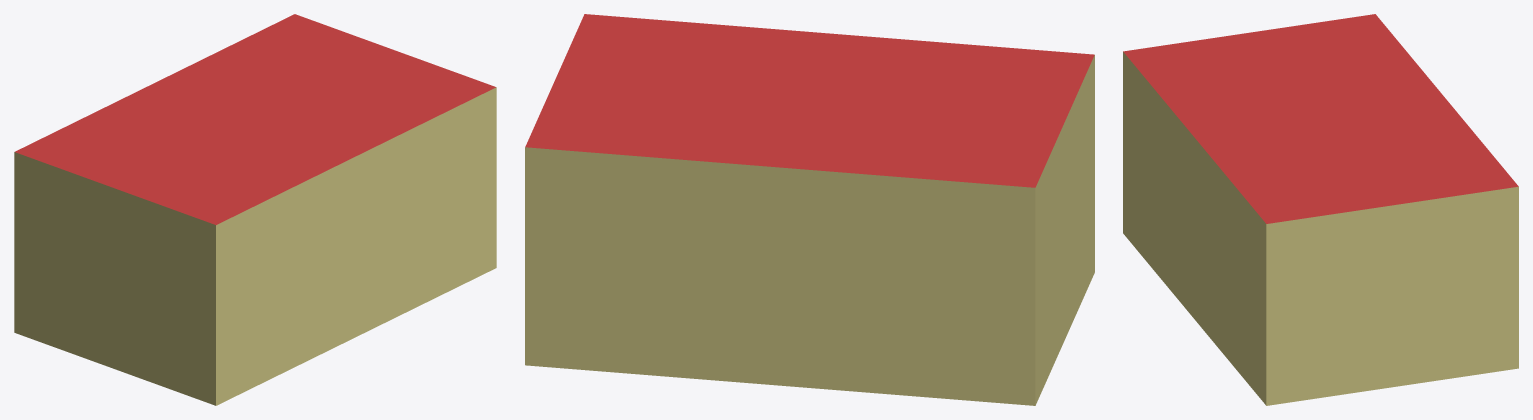
3 views of the same model, side by side, from view 1: azimuth 30°, elevation 25°; view 2: azimuth 150°, elevation 25°; view 3: azimuth 270°, elevation 25° (orthographic). The views are drawn at different scales.
Size of the model in its own units: 14.68 by 11.69 by 5.93.
